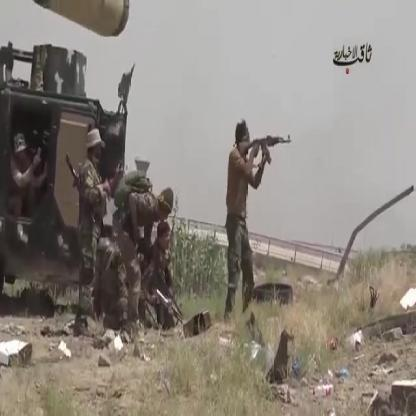Gun: (55, 146, 103, 248), (233, 129, 292, 168)
